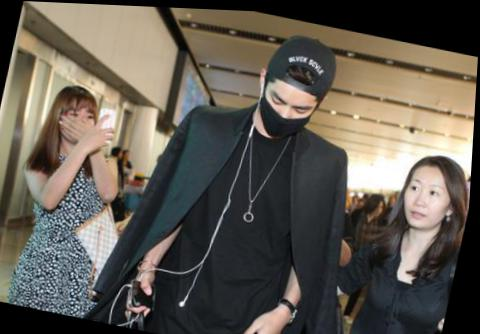NONE: (400, 166, 457, 232), (59, 102, 101, 147)
WRONG: (254, 75, 319, 142)
